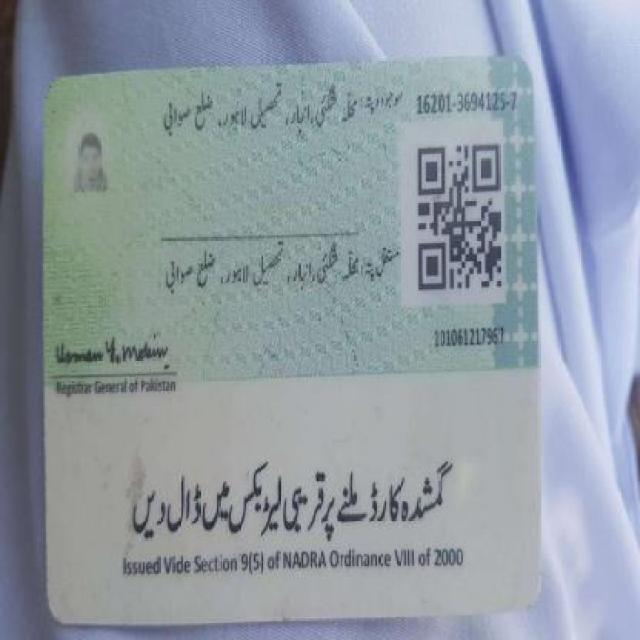Back: (35, 52, 548, 625)
